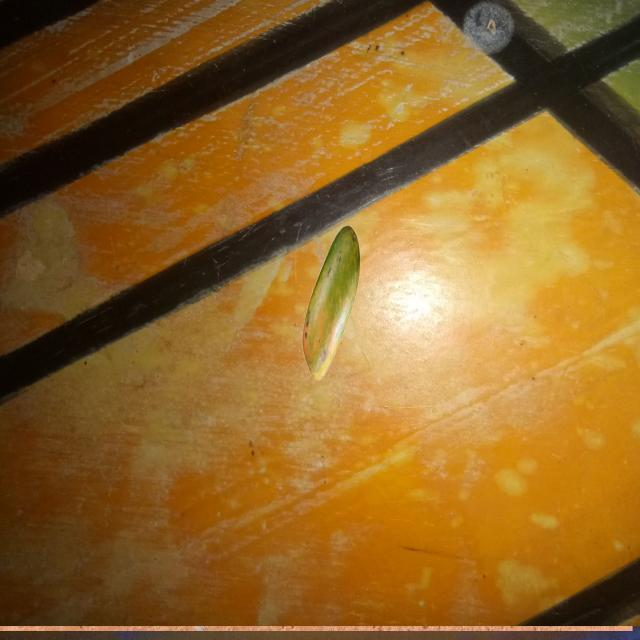Pepaya rippen: (293, 214, 354, 393)
